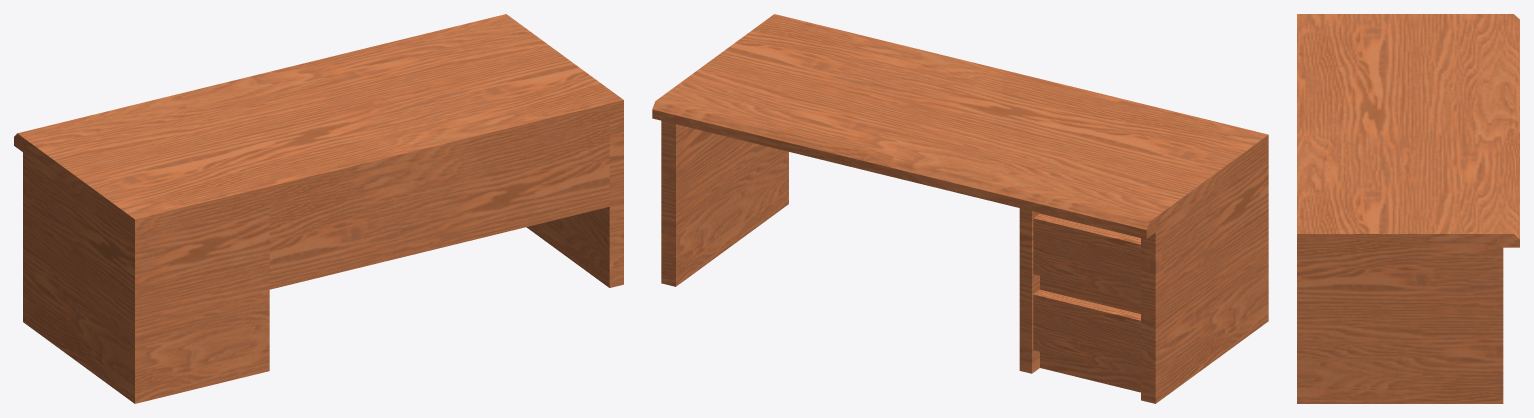
File: table1.fbx
3 renders of one model, left to right at view 1: azimuth 30°, elevation 25°; view 2: azimuth 150°, elevation 25°; view 3: azimuth 270°, elevation 25°, orthographic. The views are drawn at different scales.
Parts seen in each view (by area): view 1: table1; view 2: table1; view 3: table1.
Boxes of the visible parts, left/top/right/bottom form: table1: left=14, top=14, right=623, bottom=403; table1: left=652, top=14, right=1268, bottom=403; table1: left=1297, top=14, right=1519, bottom=403.
Bounding box in the file's own units: 261 × 94.26 × 112.
1 material, 1 textured.
